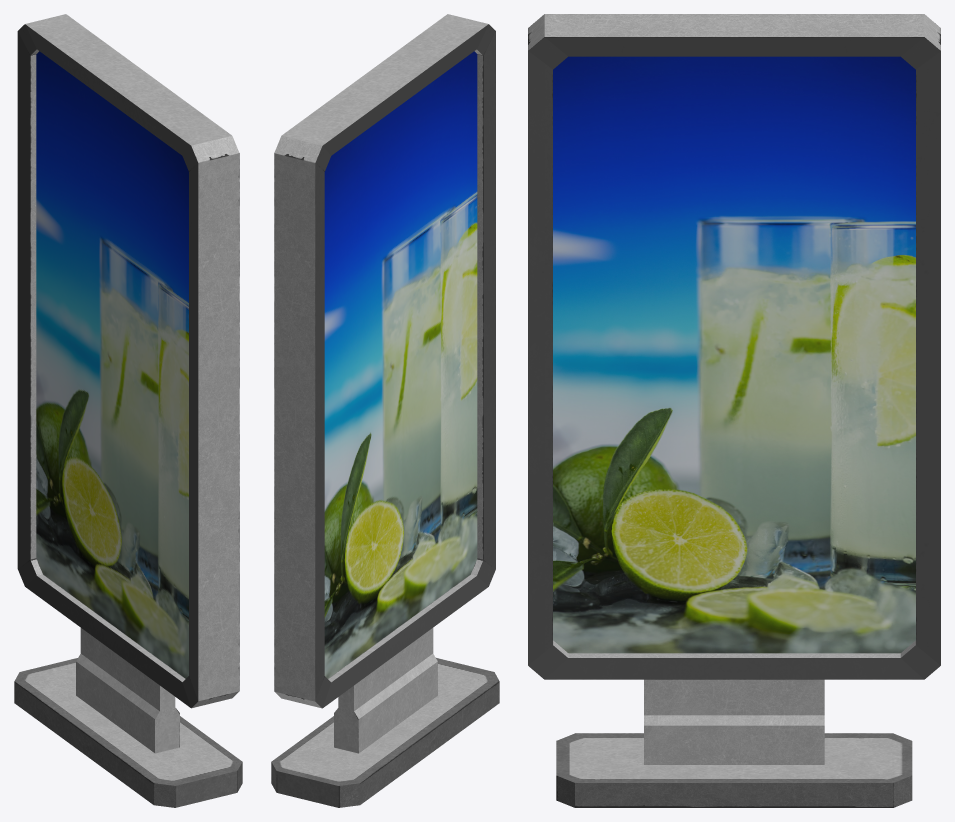
File: Panel011.FBX
3 views of the same model, side by side, from view 1: azimuth 30°, elevation 25°; view 2: azimuth 150°, elevation 25°; view 3: azimuth 270°, elevation 25° (orthographic). The views are drawn at different scales.
Visible parts, largest first — view 1: Panel011; view 2: Panel011; view 3: Panel011.
Part boxes in pixels (box(x1,y1,x2,y2)): Panel011: box(14, 14, 242, 807); Panel011: box(271, 14, 499, 807); Panel011: box(528, 14, 940, 807).
Size of the model in its own units: 297 by 2125 by 1049.
